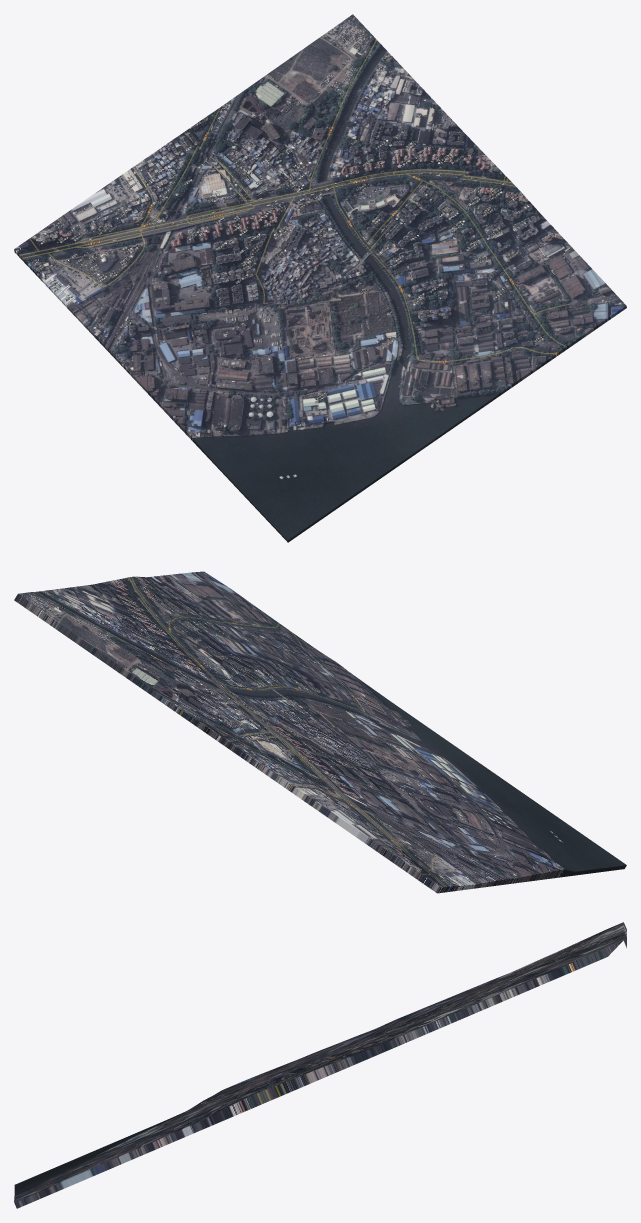
3 renders of one model, top to bottom at view 1: azimuth 30°, elevation 25°; view 2: azimuth 150°, elevation 25°; view 3: azimuth 270°, elevation 25°, orthographic. The views are drawn at different scales.
Parts seen in each view (by area): view 1: 1_6_1; view 2: 1_6_1; view 3: 1_6_1.
Boxes of the visible parts, <box> form: 1_6_1: <box>14,14,626,542</box>; 1_6_1: <box>14,571,626,893</box>; 1_6_1: <box>14,922,626,1208</box>.
Size of the model in its own units: 1228 by 896 by 1124.
Materials: 1 (1 with a texture image).
